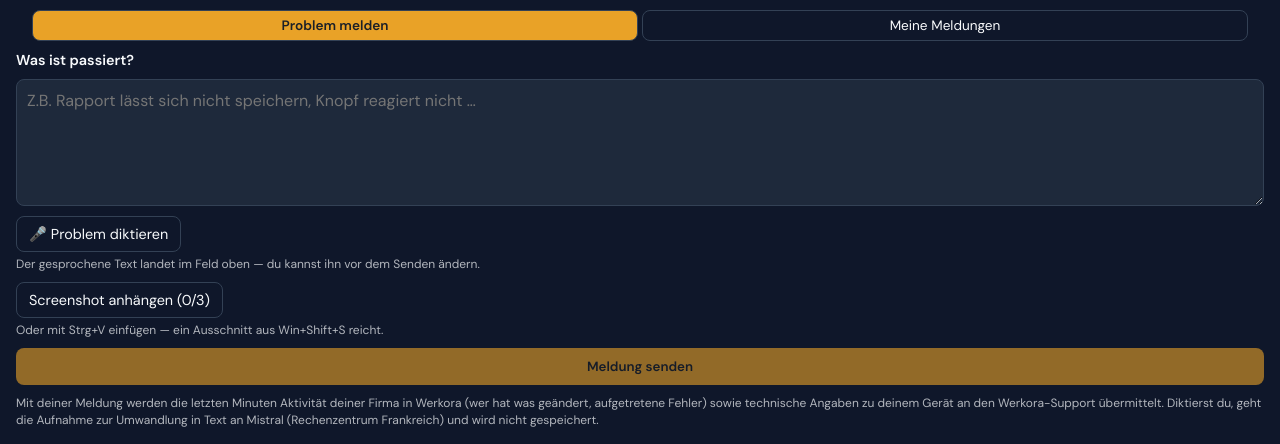
Test: SupportForm — Diktat › schreibt das Transkript ins Textfeld, statt es sofort zu senden
This screenshot has width=1280, height=444.
Step 1. Click the button "🎤 Problem diktieren" → (99, 234), box [16,216,181,252]
Wait 1000 ms
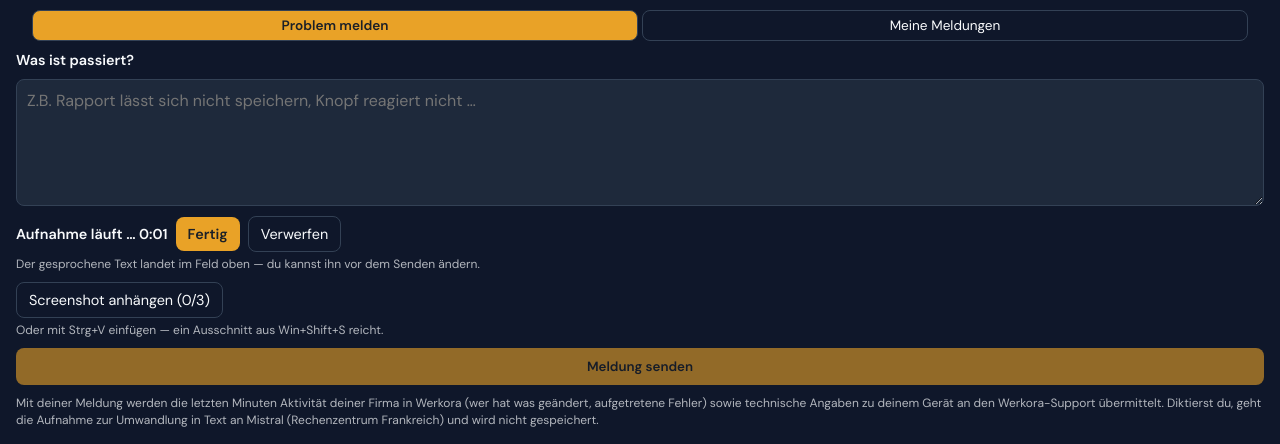
Expected: the text "Aufnahme läuft" is shown, [16,225,123,243]
Step 2. Click the button "Fertig" → (208, 234), box [176,217,240,251]
Wait 600 ms
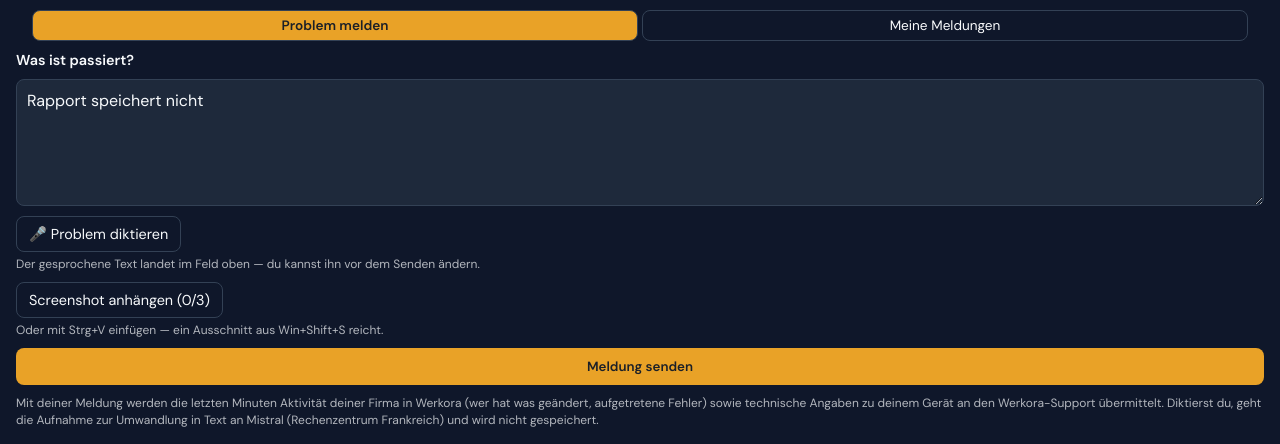
Expected: the text box labelled "Was ist passiert?" holds "Rapport speichert nicht", [16,79,1264,206]
